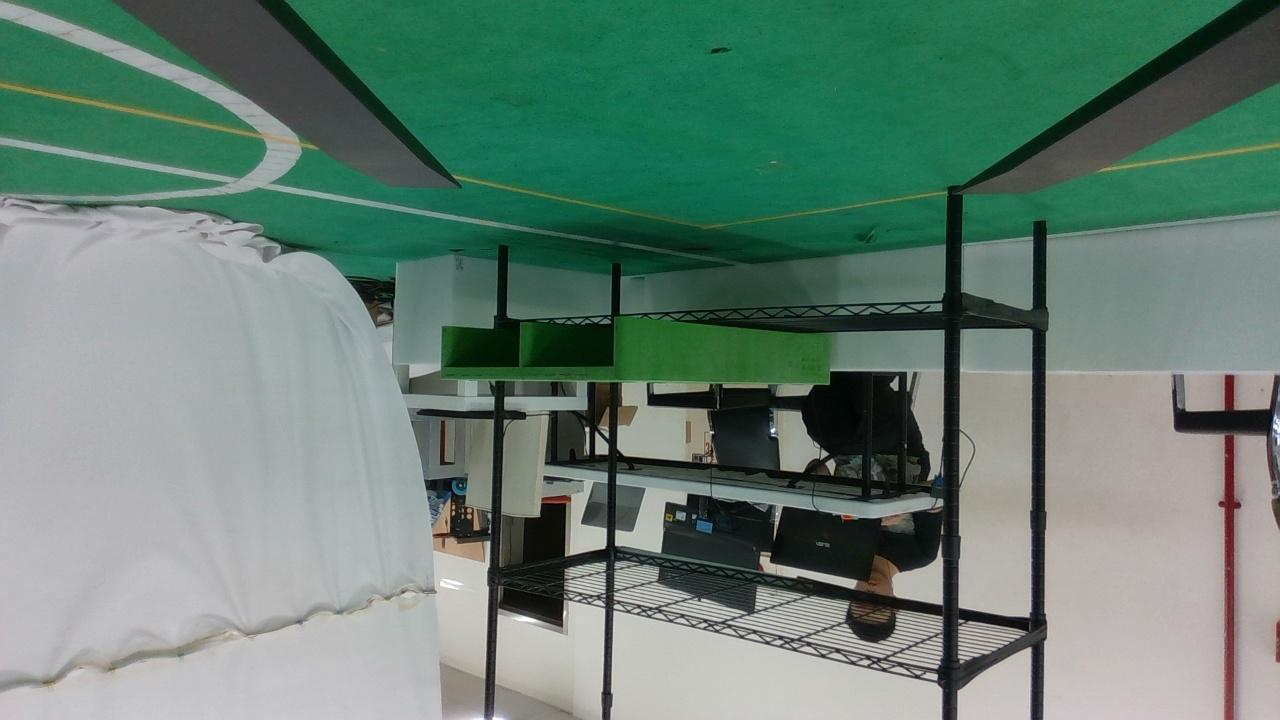Pallet: (439, 314, 628, 382)
